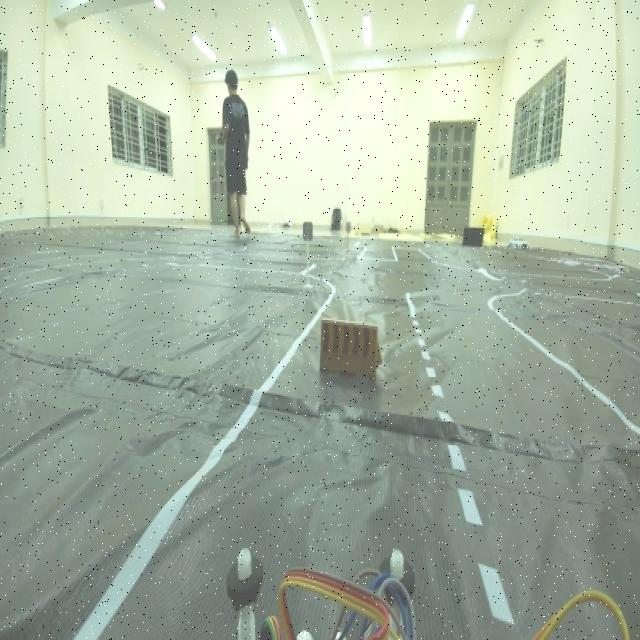roadblock: (307, 307, 390, 400)
